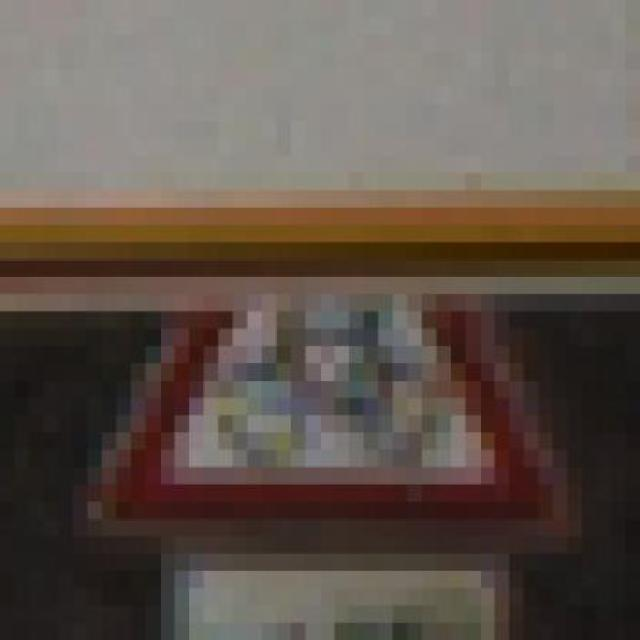CYCLE ROUTE AHEAD WARNING: (43, 312, 597, 553)
